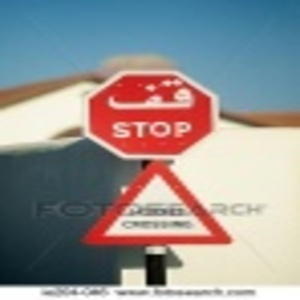stop: (84, 70, 220, 164)
